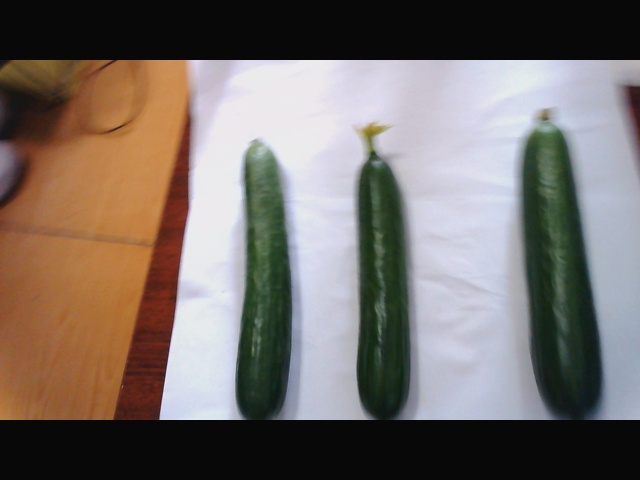cucumber: (519, 103, 609, 410), (224, 140, 305, 415), (343, 139, 417, 416)
